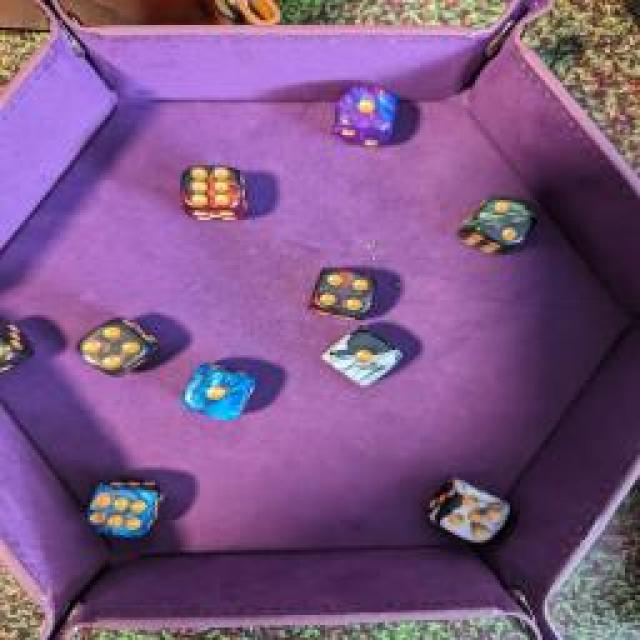dice_1: (176, 362, 262, 426), (330, 81, 408, 151), (320, 328, 410, 388)
dice_2: (455, 192, 540, 252)
dice_4: (74, 316, 158, 379), (306, 264, 384, 321)
dice_5: (416, 476, 516, 549)
dice_6: (78, 476, 168, 544), (172, 161, 256, 224)
